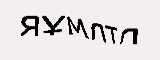Л: (116, 28, 140, 46), (90, 23, 107, 43)
М: (67, 17, 89, 40)
Т: (104, 25, 120, 44)
Я: (17, 14, 39, 38)
Ұ: (41, 15, 65, 38)
